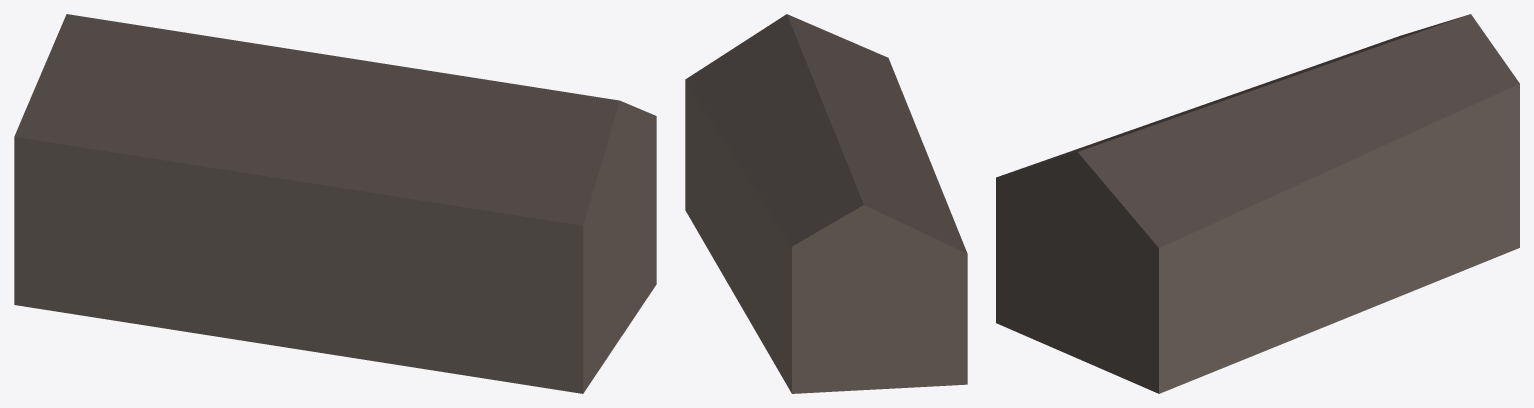
3 views of the same model, side by side, from view 1: azimuth 30°, elevation 25°; view 2: azimuth 150°, elevation 25°; view 3: azimuth 270°, elevation 25° (orthographic). The views are drawn at different scales.
Parts seen in each view (by area): view 1: HP-w1515076948; view 2: HP-w1515076948; view 3: HP-w1515076948.
Boxes of the visible parts, left/top/right/bottom form: HP-w1515076948: left=14, top=14, right=656, bottom=393; HP-w1515076948: left=685, top=14, right=967, bottom=393; HP-w1515076948: left=996, top=14, right=1519, bottom=393.
Bounding box in the file's own units: 18.79 × 8.51 × 19.56.
